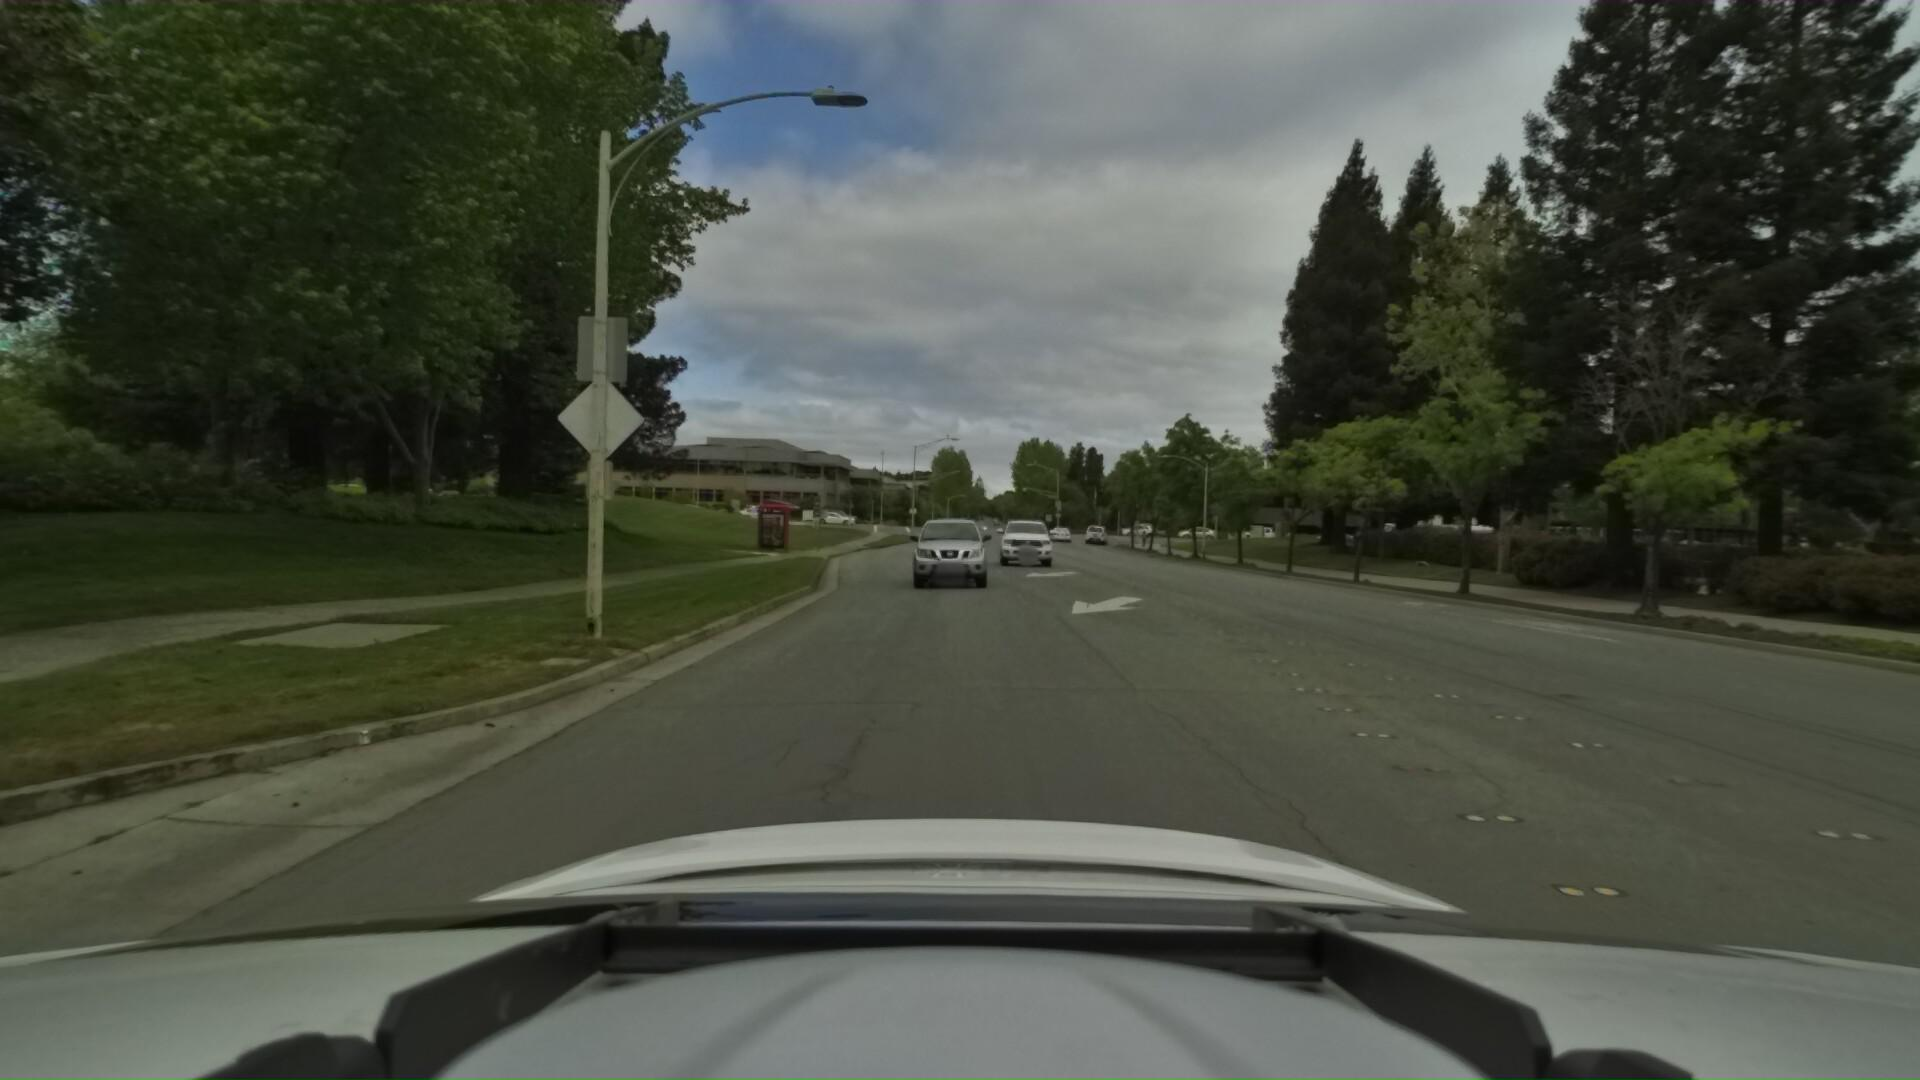car: (899, 506, 992, 596), (997, 512, 1058, 566)
other_vehicle: (1400, 518, 1494, 564)
